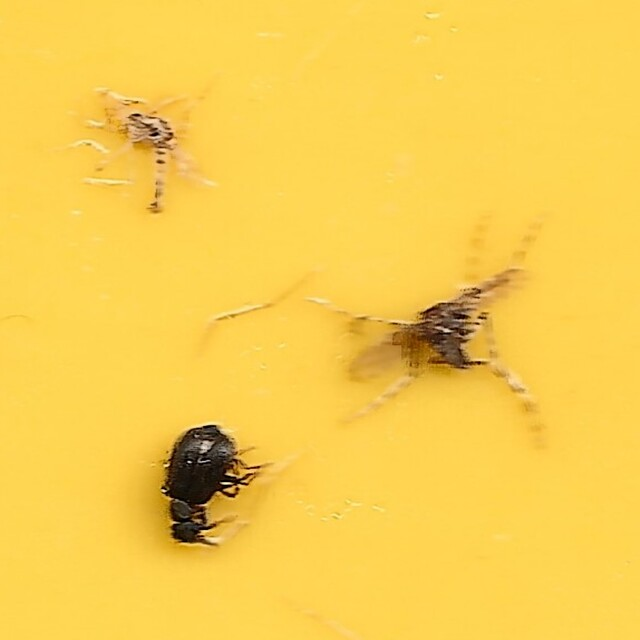Coleoptera: (159, 423, 269, 551)
Nematocera: (327, 264, 529, 391), (111, 89, 203, 224)
